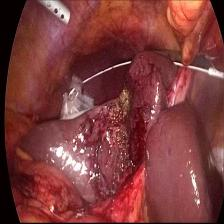Irrigator: (28, 0, 77, 32)
Specimen Bag: (56, 61, 103, 125)
